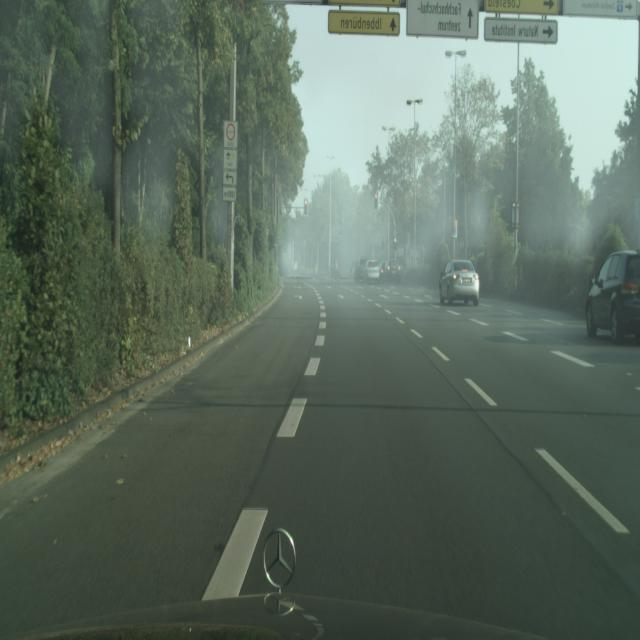car: (585, 249, 640, 344), (439, 258, 479, 306), (382, 259, 401, 282), (354, 258, 372, 282), (365, 259, 380, 283)
truck: (328, 256, 342, 285), (312, 258, 323, 283)
